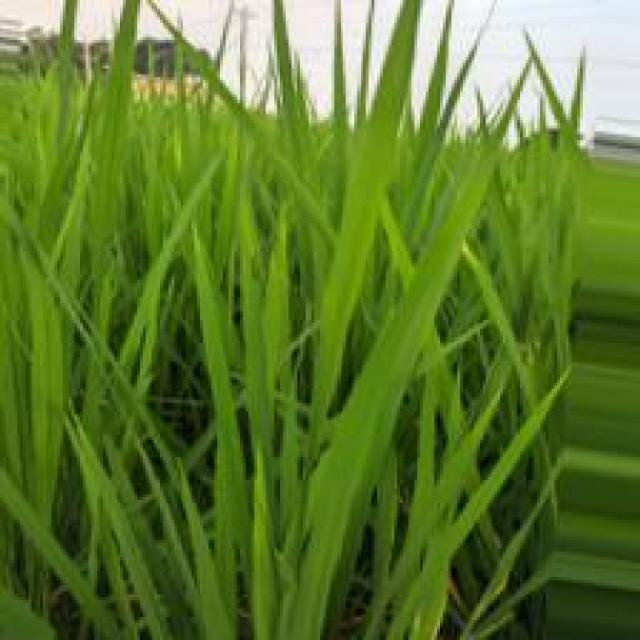HealthyLeaf: (275, 68, 526, 640), (315, 0, 425, 467)
